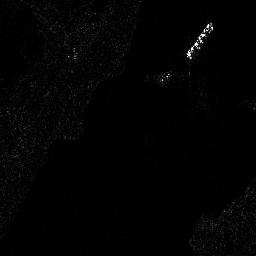ship: (185, 21, 214, 58)
